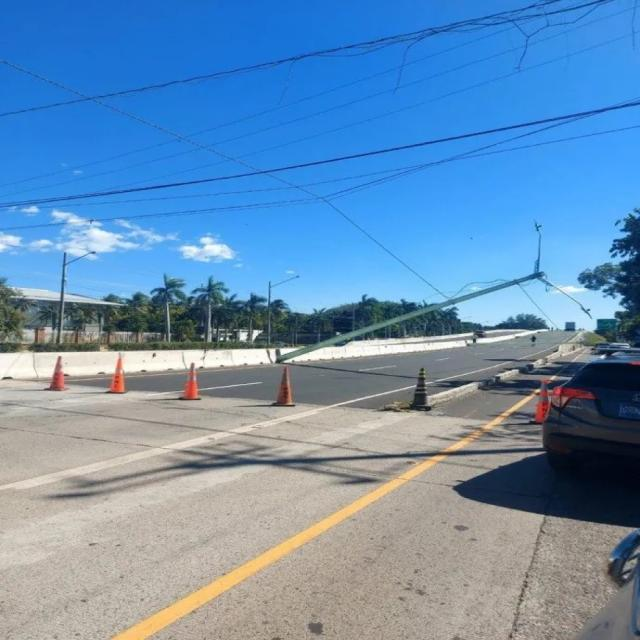Inclined Pole: (270, 219, 600, 363)
